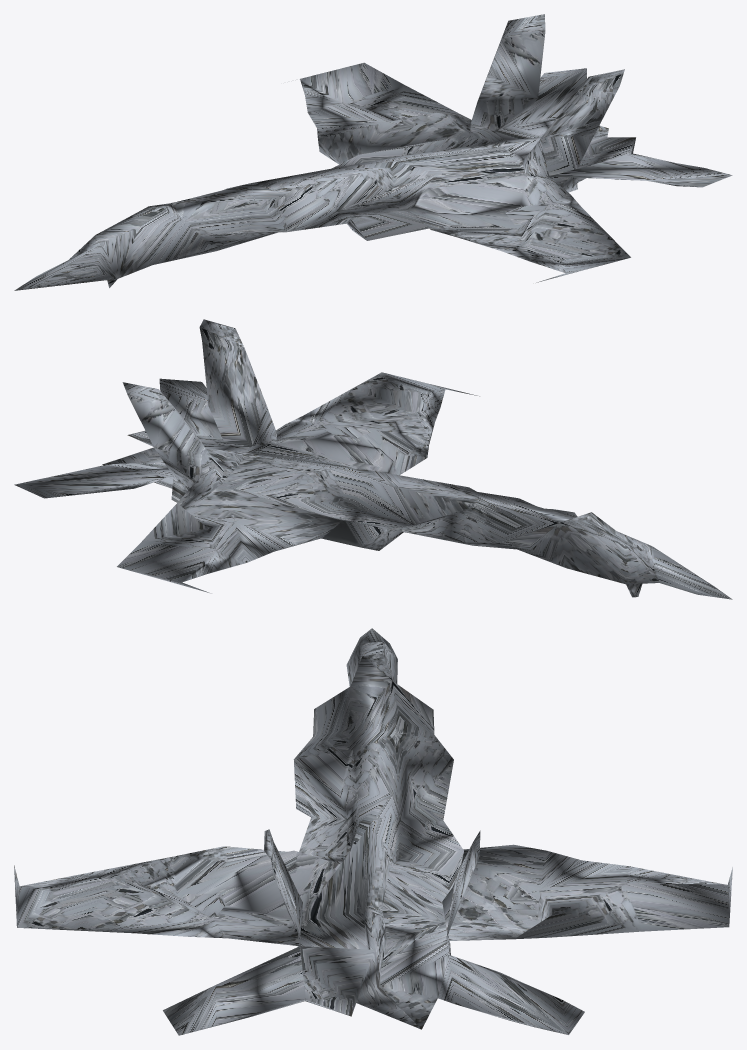
File: fa-18e-super-hornet-meshy-ultra-v1.glb
The picture shows the model from 3 angles, top to bottom: view 1: azimuth 30°, elevation 25°; view 2: azimuth 150°, elevation 25°; view 3: azimuth 270°, elevation 25°; orthographic projection. The views are drawn at different scales.
Bounding box in the file's own units: 1.9 × 0.3862 × 1.36.
Materials: 1 (1 with a texture image).
